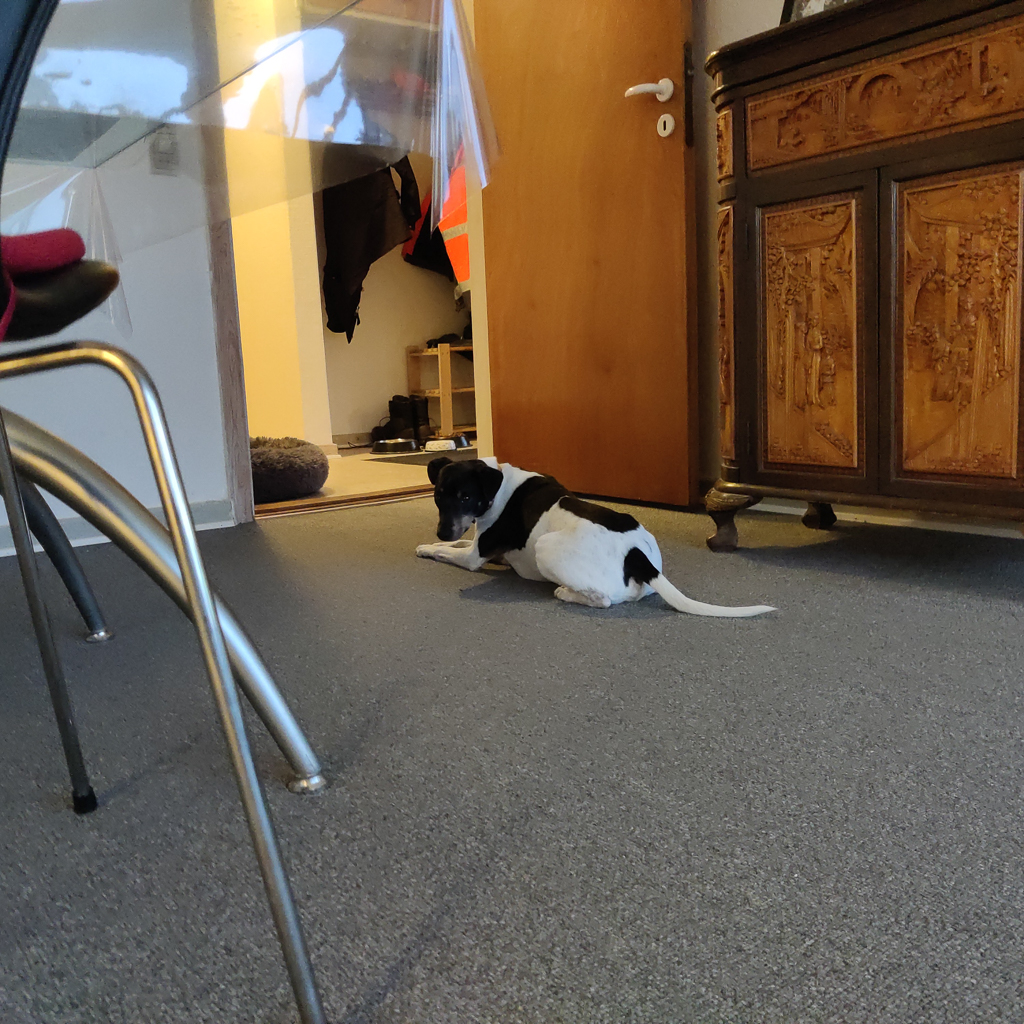Dog: (399, 444, 798, 639)
